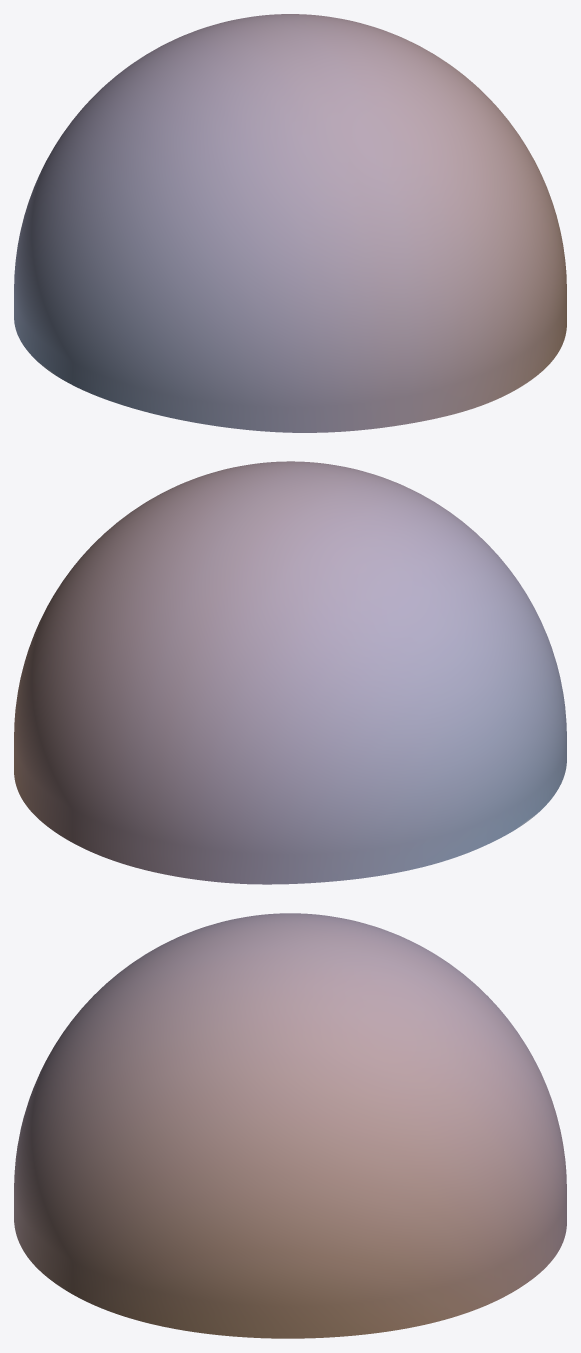
File: shadowhouse_sky.obj
3 renders of one model, top to bottom at view 1: azimuth 30°, elevation 25°; view 2: azimuth 150°, elevation 25°; view 3: azimuth 270°, elevation 25°, orthographic.
Bounding box in the file's own units: 1000 × 567 × 1000.
Materials: 1 (1 with a texture image).
